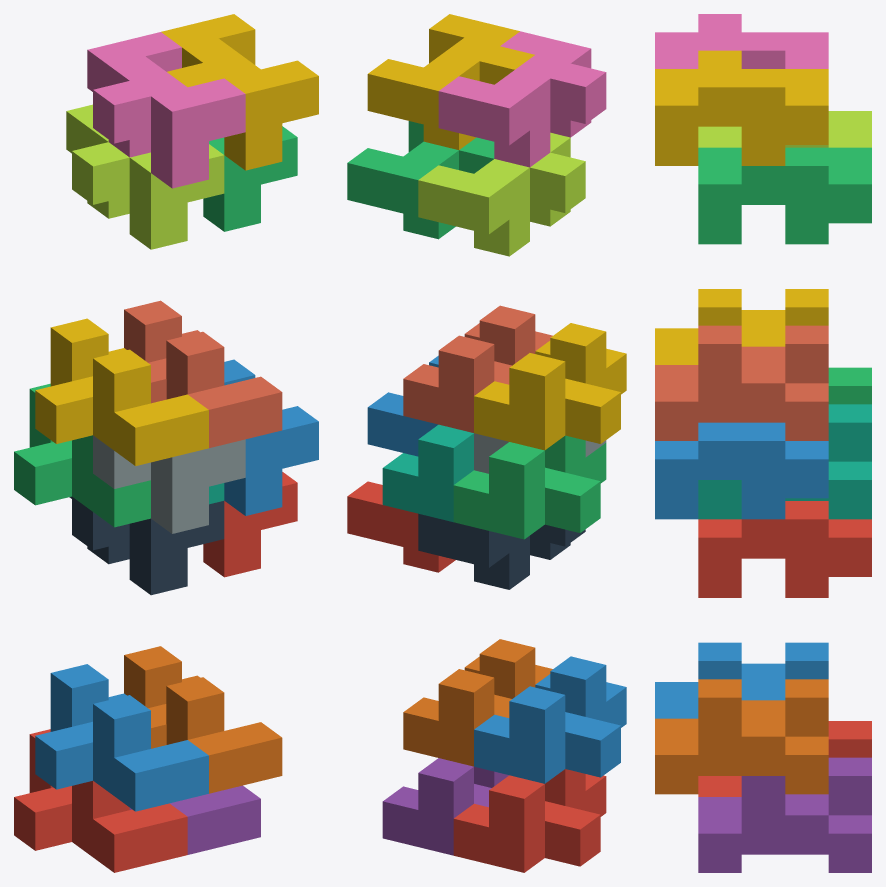
File: tiling.obj
3 views of the same model, side by side, from view 1: azimuth 30°, elevation 25°; view 2: azimuth 150°, elevation 25°; view 3: azimuth 270°, elevation 25° (orthographic). The views are drawn at different scales.
Parts seen in each view (by area): view 1: copy_2_domain_4, copy_1_domain_2, copy_1_domain_4, copy_2_domain_8, copy_1_domain_1, copy_1_domain_6, copy_1_domain_8, copy_2_domain_3, copy_1_domain_3, copy_2_domain_2, copy_2_domain_1, copy_2_domain_6 (+3 smaller); view 2: copy_2_domain_4, copy_1_domain_2, copy_1_domain_4, copy_1_domain_1, copy_1_domain_3, copy_2_domain_3, copy_2_domain_8, copy_1_domain_6, copy_1_domain_8, copy_2_domain_7, copy_1_domain_5, copy_2_domain_1 (+4 smaller); view 3: copy_1_domain_8, copy_1_domain_6, copy_2_domain_8, copy_1_domain_5, copy_2_domain_7, copy_2_domain_6, copy_2_domain_5, copy_1_domain_7, copy_1_domain_2, copy_1_domain_4, copy_2_domain_4, copy_2_domain_3 (+2 smaller).
Boxes of the visible parts, <box> form: copy_2_domain_4: <box>87,32,245,188</box>; copy_1_domain_2: <box>35,664,208,811</box>; copy_1_domain_4: <box>35,318,208,465</box>; copy_2_domain_8: <box>161,14,318,170</box>; copy_1_domain_1: <box>14,729,187,872</box>; copy_1_domain_6: <box>124,646,282,793</box>; copy_1_domain_8: <box>124,300,282,448</box>; copy_2_domain_3: <box>66,104,224,249</box>; copy_1_domain_3: <box>14,383,150,527</box>; copy_2_domain_2: <box>93,435,245,533</box>; copy_2_domain_1: <box>69,496,224,595</box>; copy_2_domain_6: <box>224,359,318,515</box>; copy_2_domain_4: <box>438,31,606,167</box>; copy_1_domain_2: <box>474,656,626,783</box>; copy_1_domain_4: <box>474,323,626,450</box>; copy_1_domain_1: <box>453,769,606,872</box>; copy_1_domain_3: <box>453,435,606,539</box>; copy_2_domain_3: <box>418,132,585,256</box>; copy_2_domain_8: <box>367,14,534,149</box>; copy_1_domain_6: <box>403,639,552,766</box>; copy_1_domain_8: <box>403,305,552,432</box>; copy_2_domain_7: <box>347,121,494,239</box>; copy_1_domain_5: <box>382,758,508,855</box>; copy_2_domain_1: <box>418,513,585,589</box>; copy_1_domain_8: <box>655,325,828,440</box>; copy_1_domain_6: <box>655,679,828,794</box>; copy_2_domain_8: <box>655,50,828,165</box>; copy_1_domain_5: <box>698,757,871,872</box>; copy_2_domain_7: <box>698,147,871,244</box>; copy_2_domain_6: <box>655,422,828,519</box>; copy_2_domain_5: <box>698,501,871,597</box>; copy_1_domain_7: <box>698,404,871,519</box>; copy_1_domain_2: <box>655,642,828,718</box>; copy_1_domain_4: <box>655,289,828,364</box>; copy_2_domain_4: <box>655,14,828,68</box>; copy_2_domain_3: <box>698,111,871,147</box>.
Bounding box in the file's own units: 6 × 20 × 5.
